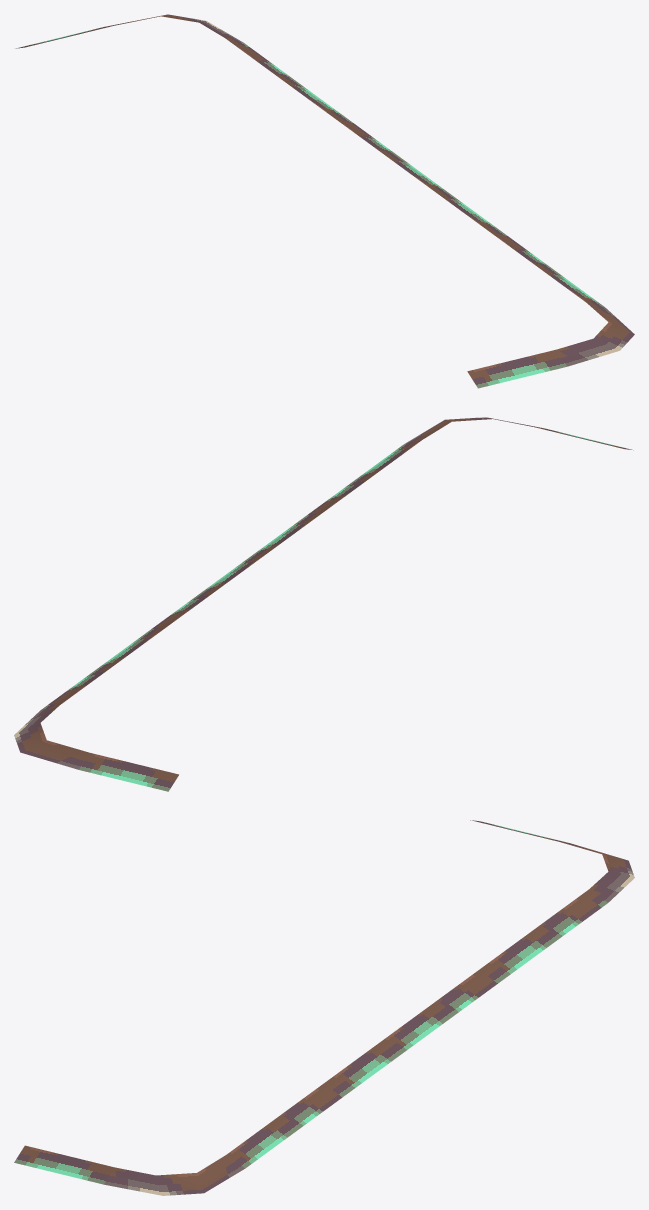
File: hgss-piece-005-element-9-0.glb
3 renders of one model, top to bottom at view 1: azimuth 30°, elevation 25°; view 2: azimuth 150°, elevation 25°; view 3: azimuth 330°, elevation 25°, orthographic.
Size of the model in its own units: 2 by 0.0986 by 9.
1 material, 1 textured.
